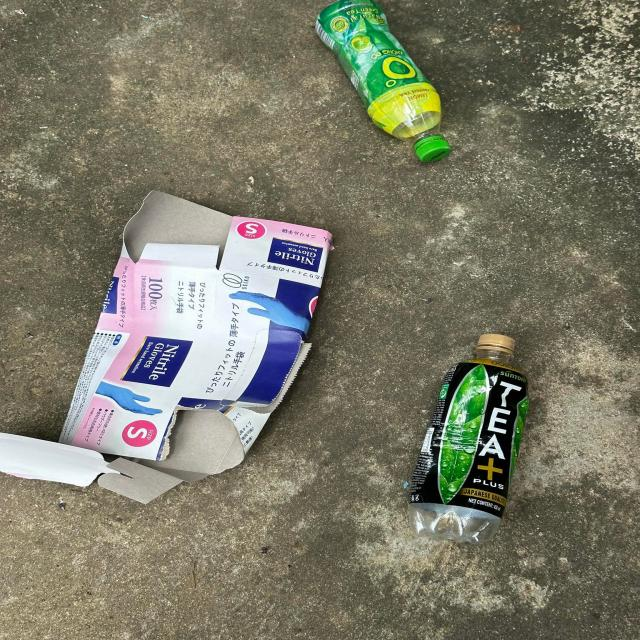bottle: (406, 332, 531, 544), (312, 0, 452, 163)
cardboard box: (58, 188, 335, 505)
